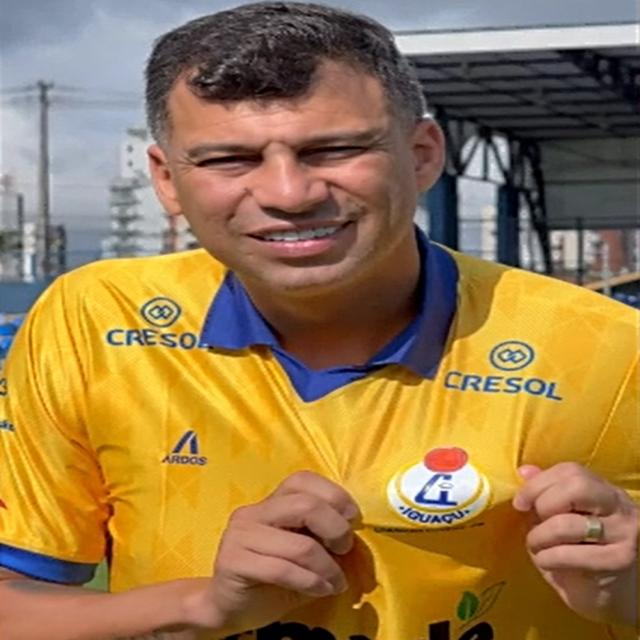sem_oculos: (133, 125, 473, 181)
